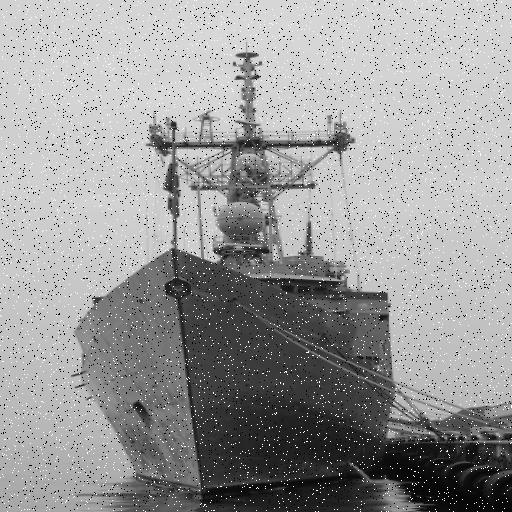Fragata: (75, 36, 402, 505)
